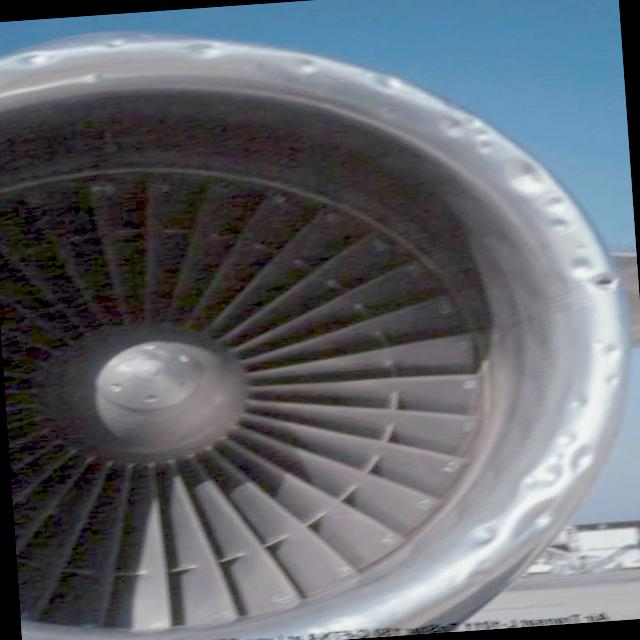dent: (440, 436, 608, 596), (507, 157, 549, 200)
